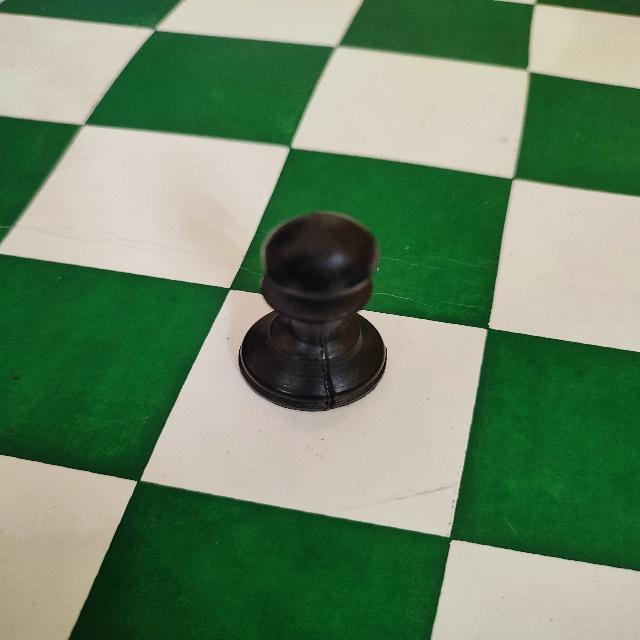Pawn: (234, 211, 390, 414)
